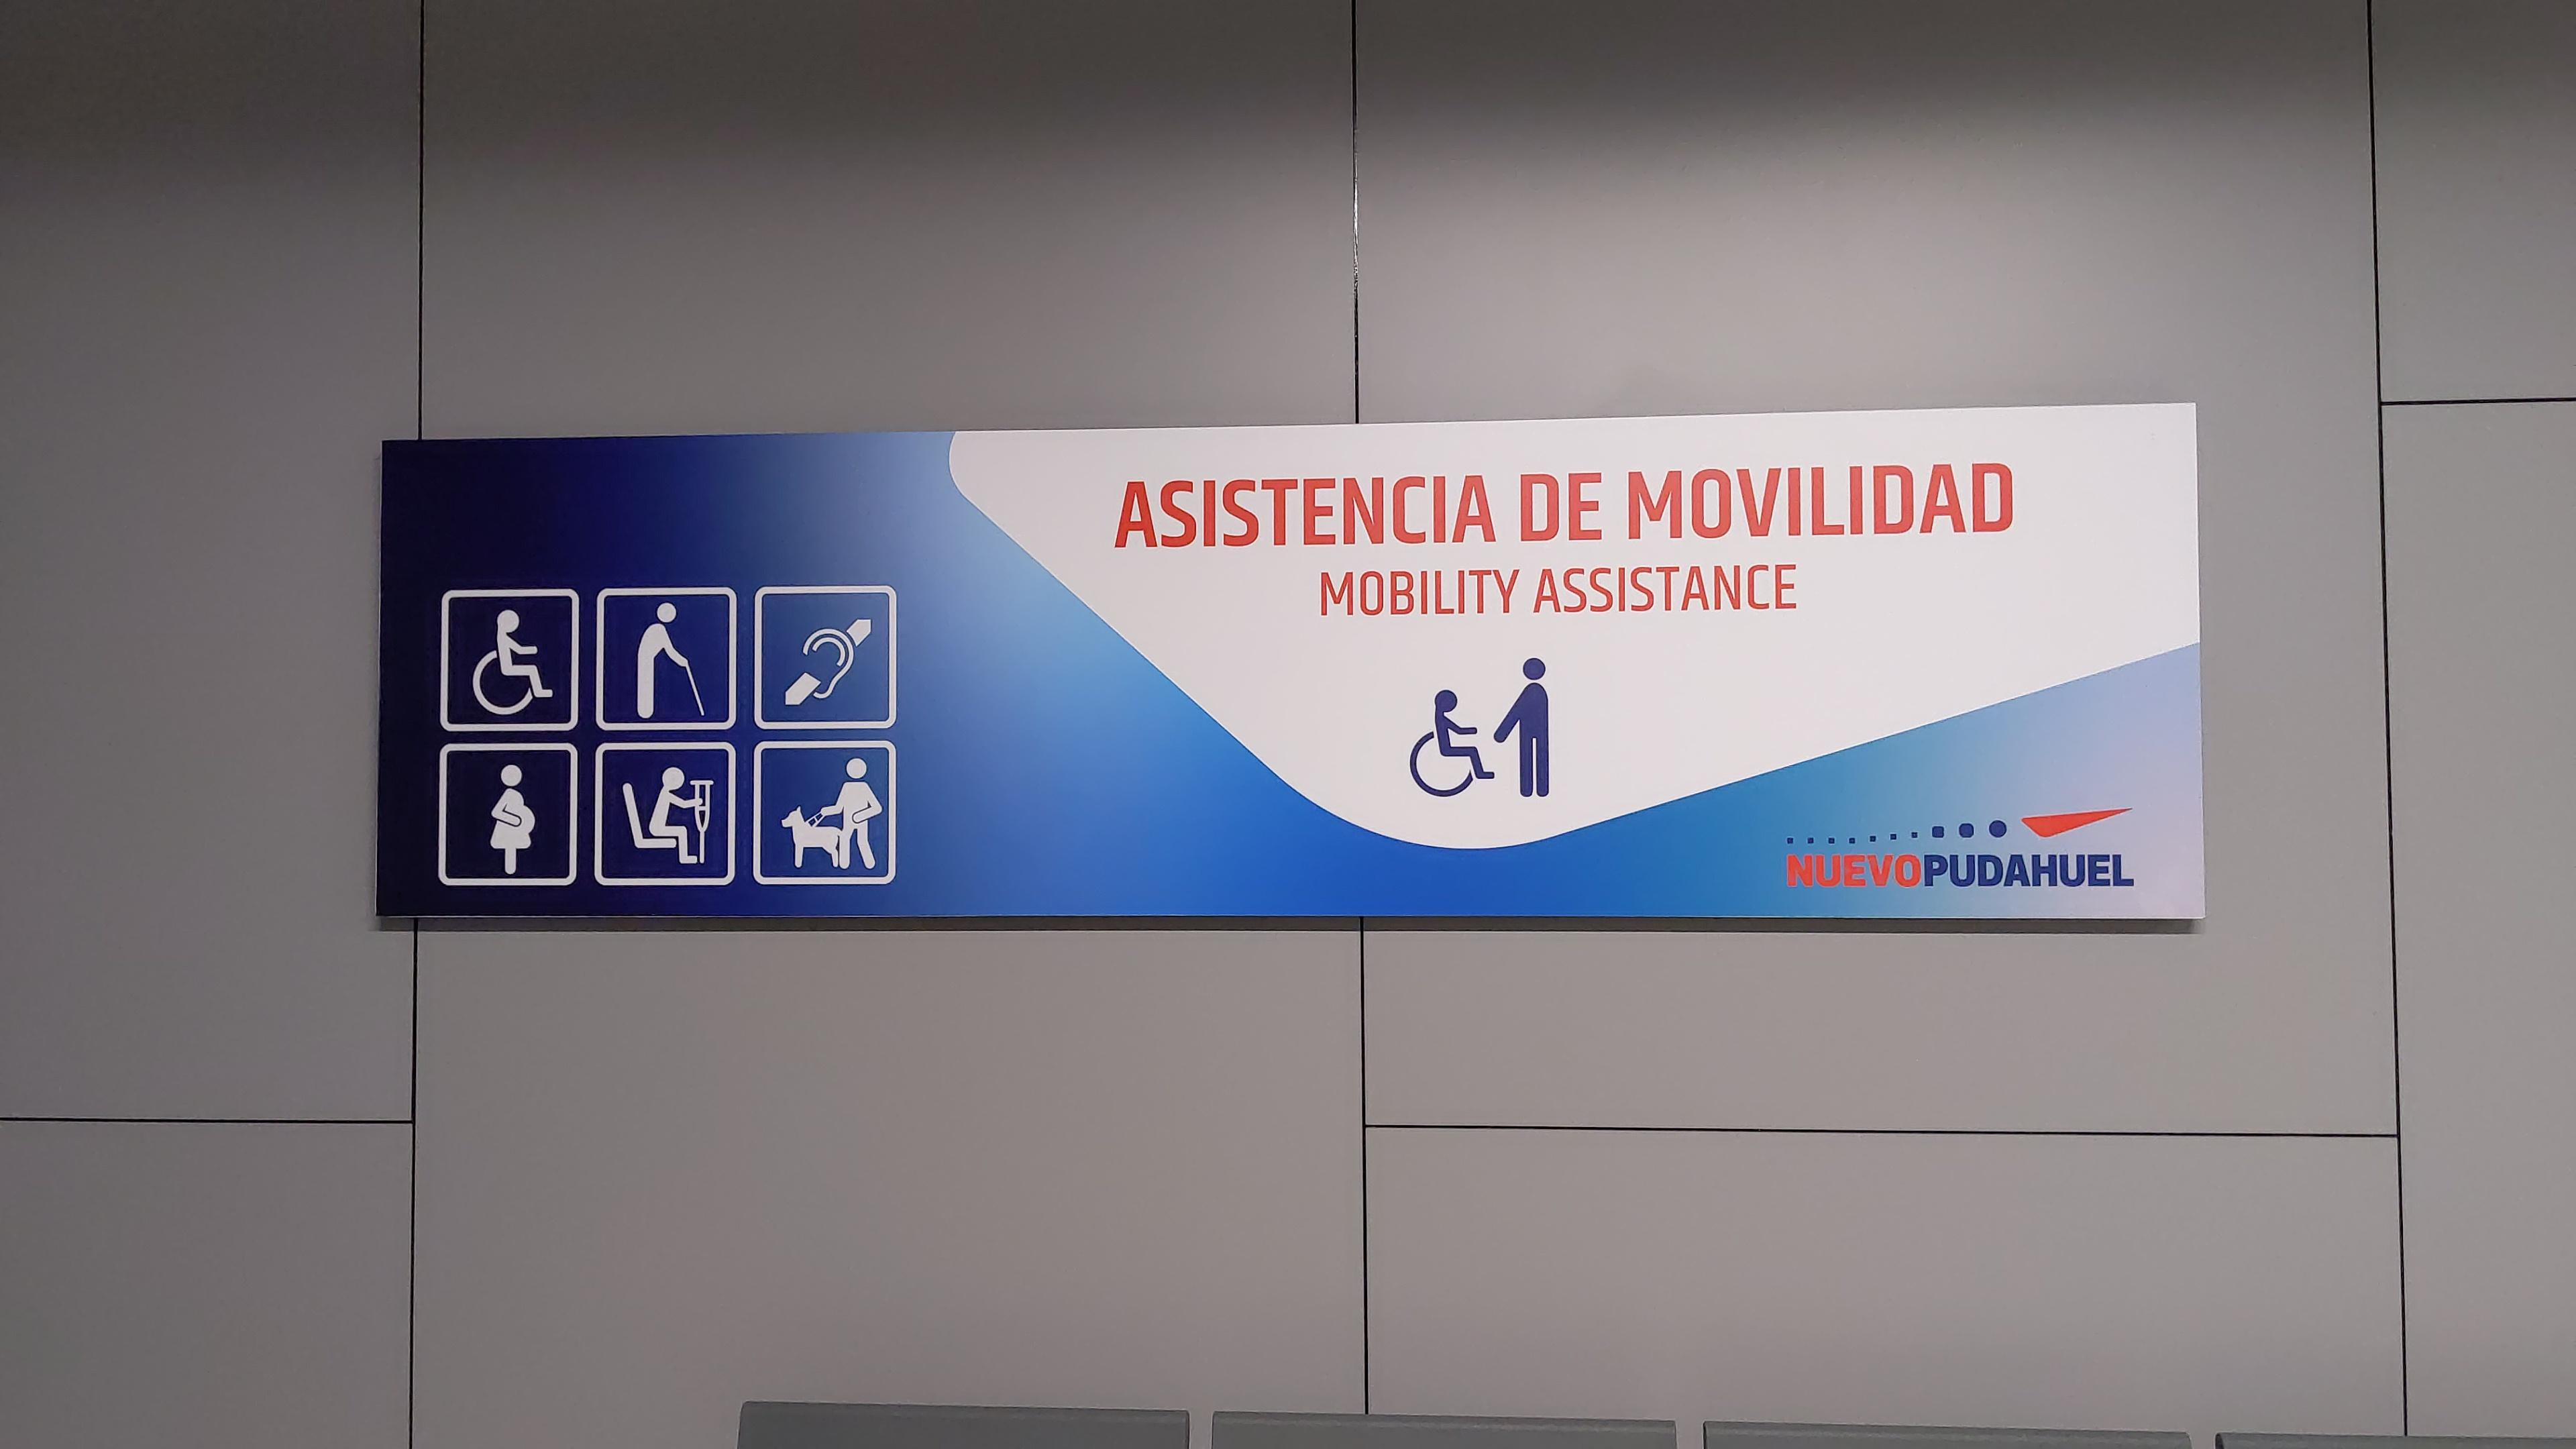handicapped symbol: (1408, 688, 1495, 800), (469, 607, 556, 717)
